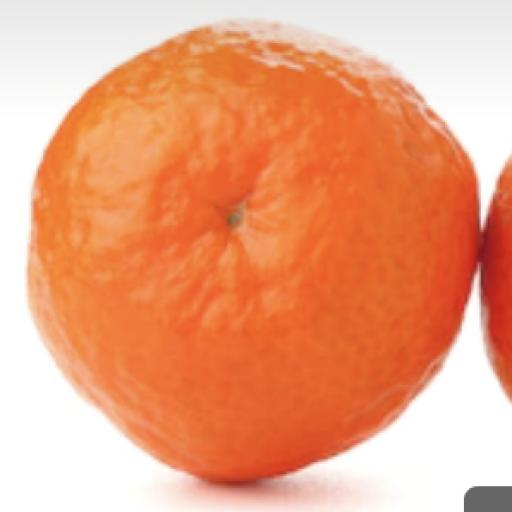orange: (30, 21, 479, 481), (482, 159, 511, 398)
